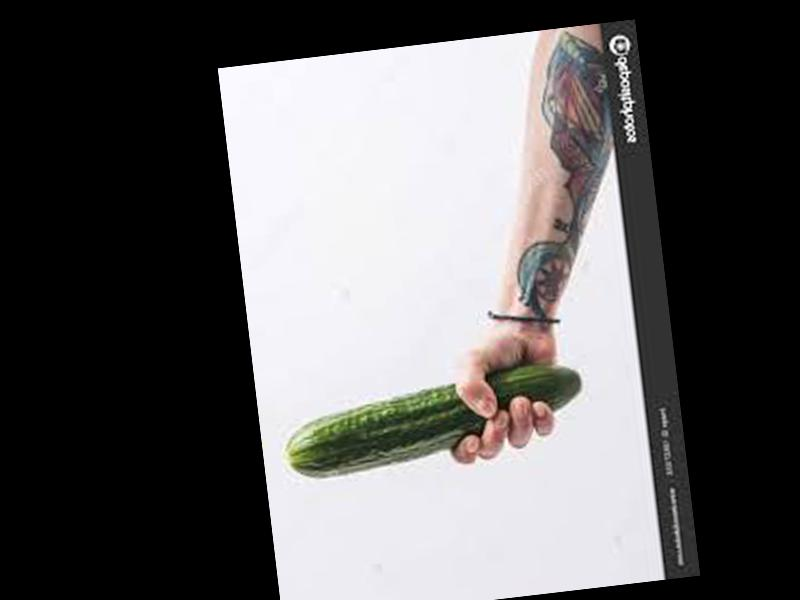Cucumber: (276, 361, 586, 483)
